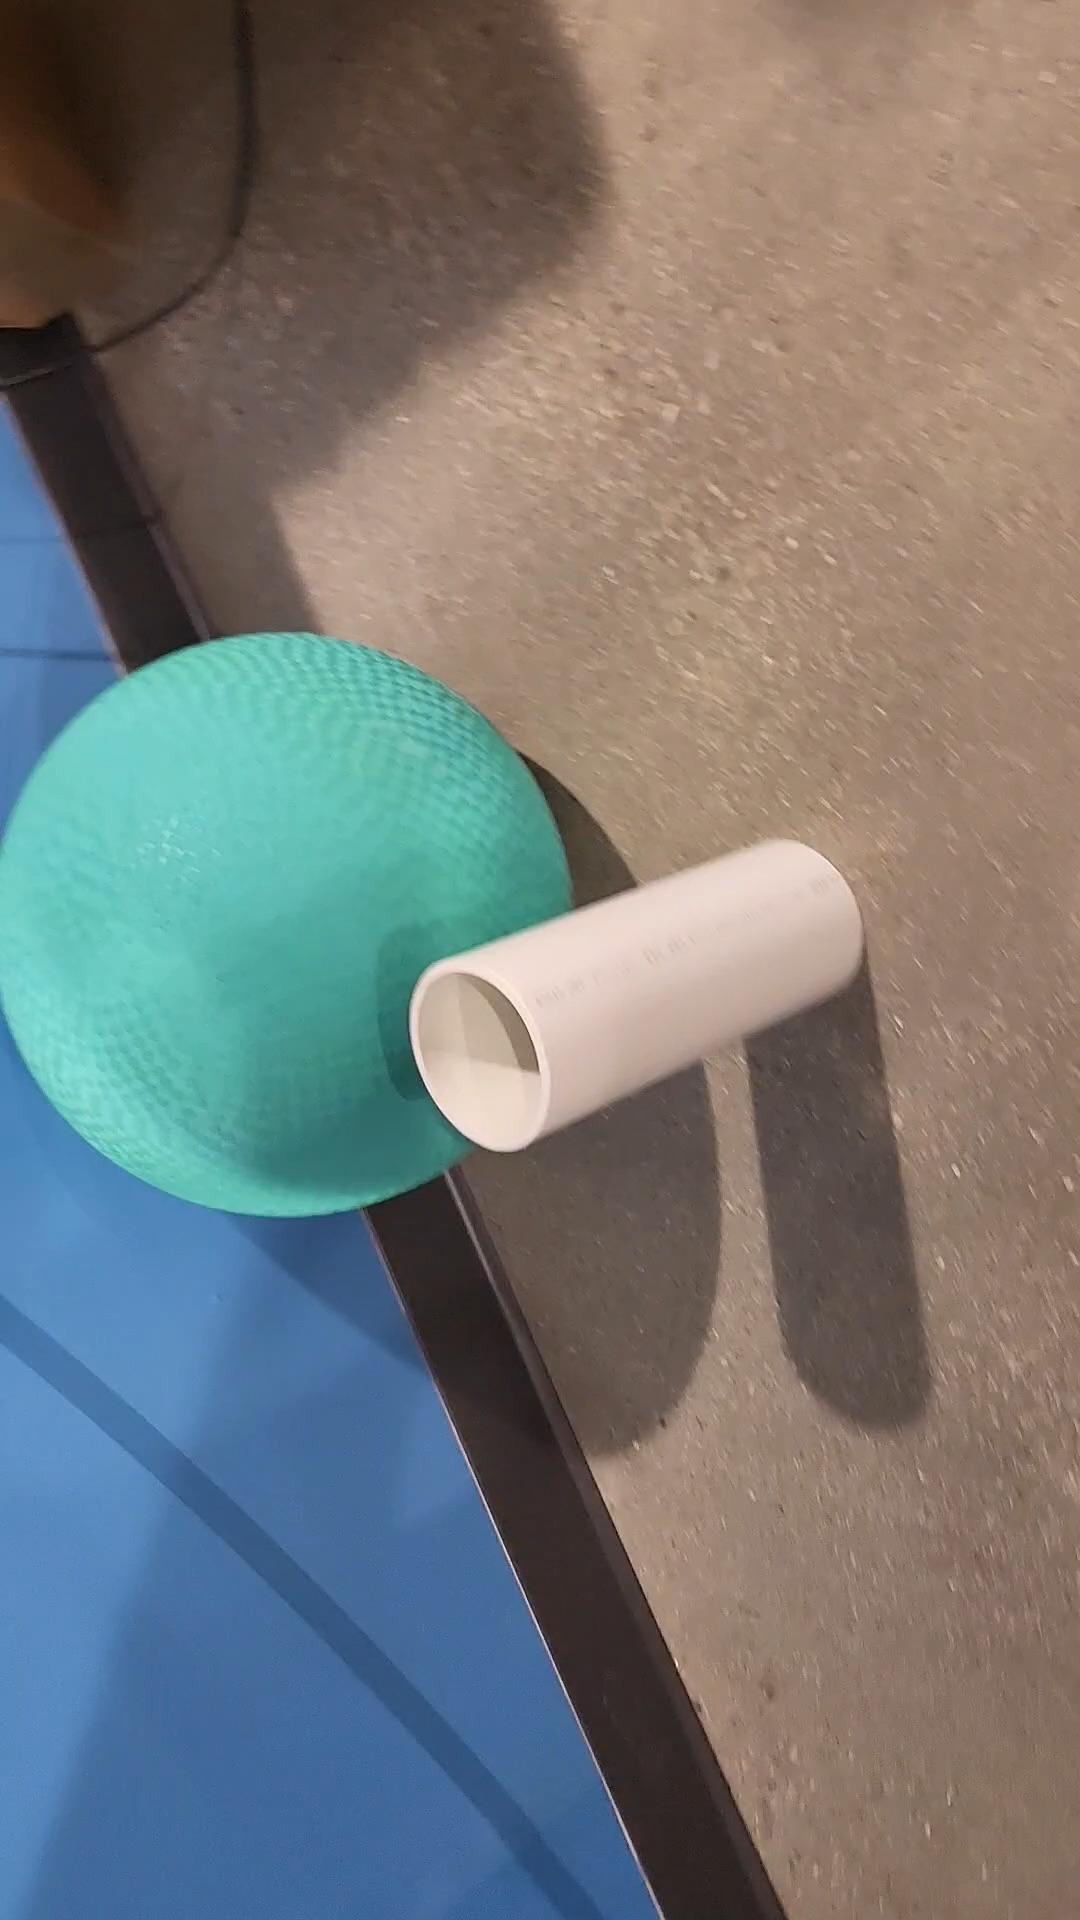algae: (0, 633, 574, 1215)
coral: (411, 835, 858, 1153)
